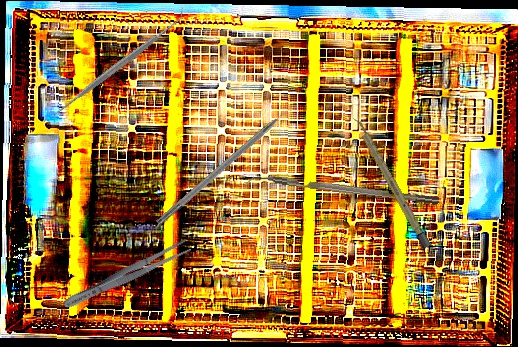Chopper: (245, 170, 440, 215)
Dressing Forceps: (60, 237, 193, 313)
Hook Surgical: (155, 101, 300, 228)
Scalpel Handle: (351, 115, 432, 250)
Spatula Surgical: (44, 6, 193, 125)
